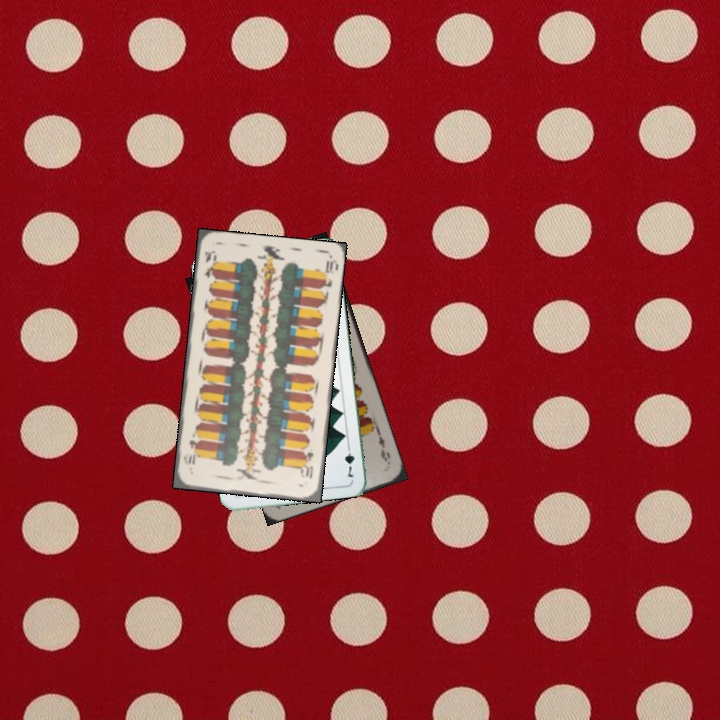E10: (199, 247, 219, 286), (298, 448, 316, 481)
E9: (373, 428, 393, 467)
G7: (340, 440, 357, 480)
